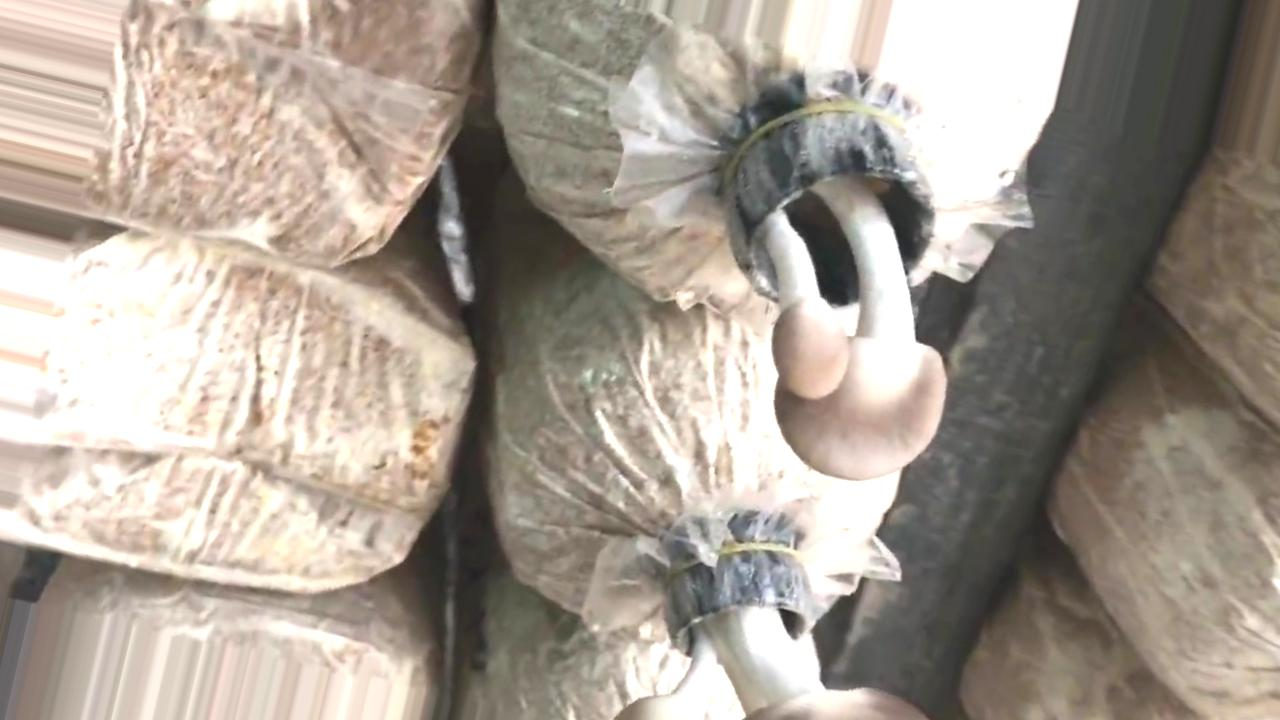nam: (732, 113, 948, 480), (623, 539, 926, 720)
